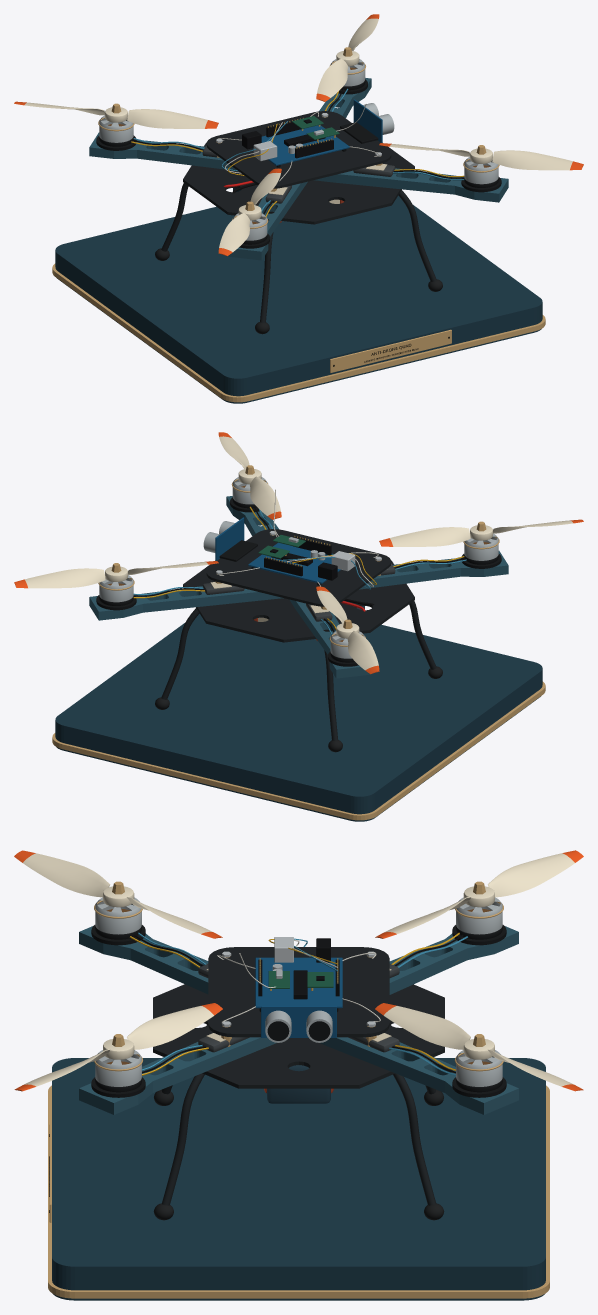
The model's file is quadcopter.glb.
The picture shows the model from 3 angles, top to bottom: view 1: azimuth 30°, elevation 25°; view 2: azimuth 150°, elevation 25°; view 3: azimuth 270°, elevation 25°; orthographic projection. The views are drawn at different scales.
Parts seen in each view (by area): view 1: M_enamel_blue, M_carbon, M_arm_blue, M_brass, M_motor_bell, M_pcb_blue, mover_prop3_b, mover_prop1_b, M_plastic_black, mover_prop0_b, mover_prop2_b, M_chip_black (+1 smaller); view 2: M_enamel_blue, M_carbon, M_arm_blue, M_brass, M_motor_bell, mover_prop0_b, M_pcb_blue, mover_prop2_b, M_plastic_black, mover_prop1_b, mover_prop3_b, M_chip_black (+1 smaller); view 3: M_enamel_blue, M_carbon, M_arm_blue, M_brass, M_motor_bell, M_pcb_blue, M_plastic_black, mover_prop0_b, mover_prop2_b, mover_prop1_b, mover_prop3_b, M_chip_black (+8 smaller).
Part boxes in pixels (x1,y1,x2,y2): M_enamel_blue: [55, 195, 542, 403]; M_carbon: [161, 111, 436, 322]; M_arm_blue: [89, 78, 508, 260]; M_brass: [52, 61, 545, 402]; M_motor_bell: [99, 59, 498, 240]; M_pcb_blue: [252, 99, 382, 165]; mover_prop3_b: [379, 143, 583, 170]; mover_prop1_b: [14, 101, 218, 128]; M_plastic_black: [96, 79, 501, 248]; mover_prop0_b: [316, 14, 379, 101]; mover_prop2_b: [218, 168, 281, 256]; M_chip_black: [242, 119, 333, 158]; M_enamel_blue: [55, 613, 542, 821]; M_carbon: [161, 529, 436, 740]; M_arm_blue: [89, 496, 508, 678]; M_brass: [52, 479, 545, 820]; M_motor_bell: [99, 477, 498, 658]; mover_prop0_b: [14, 561, 218, 588]; M_pcb_blue: [215, 517, 340, 583]; mover_prop2_b: [379, 519, 583, 546]; M_plastic_black: [96, 497, 501, 666]; mover_prop1_b: [316, 586, 379, 674]; mover_prop3_b: [218, 432, 281, 519]; M_chip_black: [264, 536, 337, 580]; M_enamel_blue: [52, 1058, 545, 1300]; M_carbon: [153, 947, 444, 1205]; M_arm_blue: [79, 926, 518, 1114]; M_brass: [48, 900, 549, 1298]; M_motor_bell: [95, 897, 502, 1086]; M_pcb_blue: [255, 957, 342, 1037]; M_plastic_black: [91, 925, 506, 1097]; mover_prop0_b: [375, 1003, 583, 1091]; mover_prop2_b: [14, 850, 222, 938]; mover_prop1_b: [375, 850, 583, 938]; mover_prop3_b: [14, 1003, 222, 1091]; M_chip_black: [258, 938, 339, 999].
Bounding box in the file's own units: 0.3462 × 0.1827 × 0.3462.
